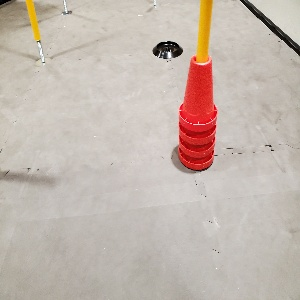Red_4: (173, 54, 219, 174)
